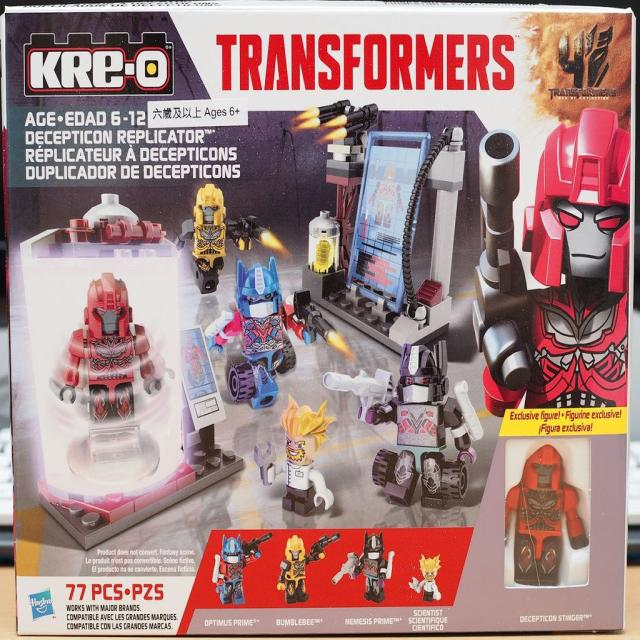Toy: (16, 29, 629, 604), (471, 105, 631, 418), (44, 269, 175, 486), (321, 340, 485, 512), (205, 258, 340, 412), (504, 440, 588, 587), (172, 183, 272, 296), (254, 392, 335, 517), (276, 532, 342, 606), (212, 535, 274, 607), (334, 534, 394, 606), (410, 555, 442, 602)
